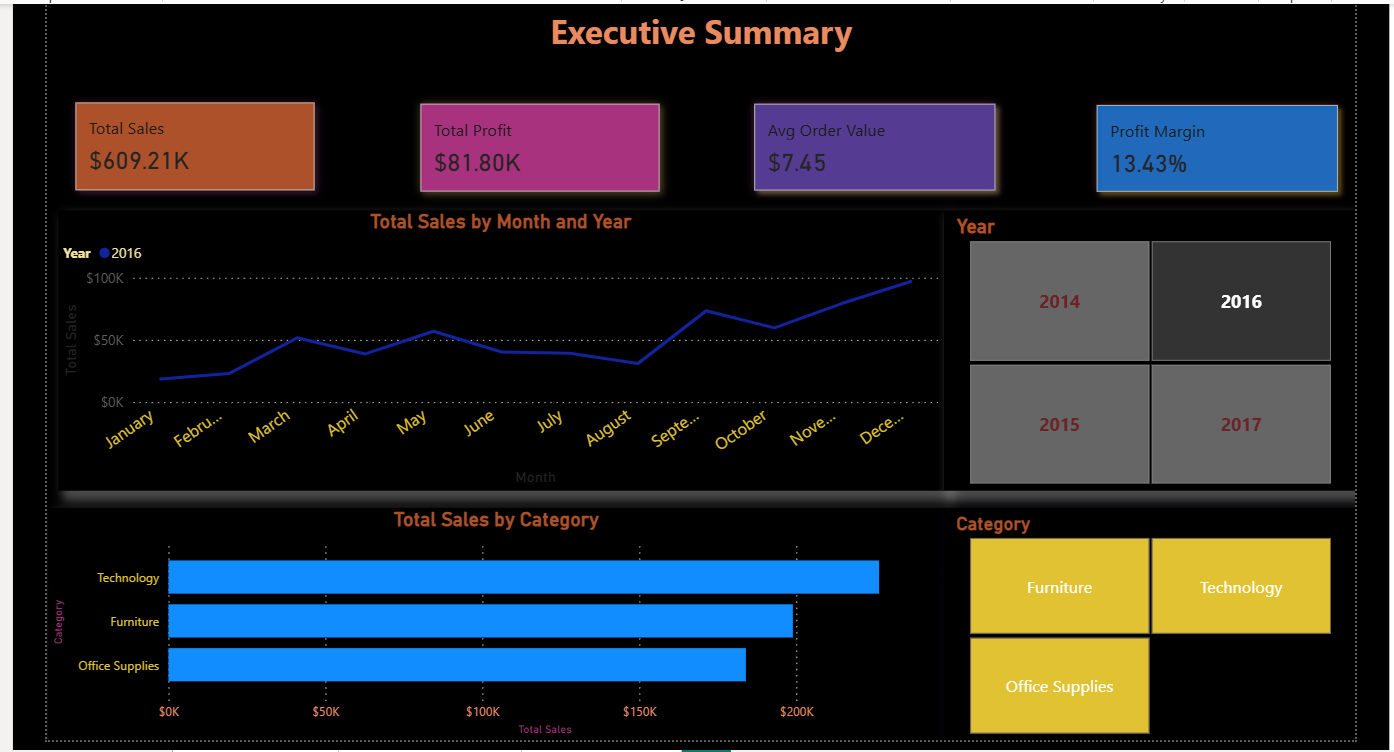

The dashboard page shown, as its layout file describes it:
{"tool":"powerbi","page":{"name":"Executive Summary","canvas":[1280,720],"ordinal":1},"visuals":[{"type":"cardVisual","fields":{"Data":["Sample - Superstore.Total Sales"]},"box":[11,79.6,269,120.8],"z":0},{"type":"cardVisual","fields":{"Data":["Sample - Superstore.Avg Order Value"]},"box":[675.1,81,270.3,119.4],"z":1000},{"type":"cardVisual","fields":{"Data":["Sample - Superstore.Profit Margin"]},"box":[1010,82.3,270.3,119.4],"z":2000},{"type":"cardVisual","fields":{"Data":["Sample - Superstore.Total Profit"]},"box":[348.5,81,269,120.8],"z":3000},{"type":"lineChart","fields":{"Category":["Sample - Superstore.Order Date.Variation.Date Hierarchy.Month"],"Y":["Sample - Superstore.Total Sales"],"Series":["Sample - Superstore.Order Date.Variation.Date Hierarchy.Year"]},"box":[11,201.7,865.9,274.4],"z":4000},{"type":"clusteredBarChart","fields":{"Category":["Sample - Superstore.Category"],"Y":["Sample - Superstore.Total Sales"]},"box":[0.8,493.2,876.8,227.8],"z":5000},{"type":"slicer","fields":{"Values":["Sample - Superstore.Order Date.Variation.Date Hierarchy.Year"]},"box":[876.8,201.7,403.4,274.4],"z":6000},{"type":"slicer","fields":{"Values":["Sample - Superstore.Category"]},"box":[876.8,492.6,403.4,227.8],"z":7000},{"type":"textbox","box":[467.9,0,343.1,79.6],"z":8000}]}

Visuals, with their boxes on the page's 1280x720 design canvas (x1, y1, x2, y2). These are canvas units, not pixel positions in the 1394x752 screenshot, which may show the page scaled, cropped or inside an application window:
cardVisual - Sample - Superstore.Total Sales: detection(11, 80, 280, 200)
cardVisual - Sample - Superstore.Avg Order Value: detection(675, 81, 945, 200)
cardVisual - Sample - Superstore.Profit Margin: detection(1010, 82, 1280, 202)
cardVisual - Sample - Superstore.Total Profit: detection(348, 81, 618, 202)
lineChart - Sample - Superstore.Order Date.Variation.Date Hierarchy.Month x Sample - Superstore.Total Sales: detection(11, 202, 877, 476)
clusteredBarChart - Sample - Superstore.Category x Sample - Superstore.Total Sales: detection(1, 493, 878, 721)
slicer - Sample - Superstore.Order Date.Variation.Date Hierarchy.Year: detection(877, 202, 1280, 476)
slicer - Sample - Superstore.Category: detection(877, 493, 1280, 720)
textbox: detection(468, 0, 811, 80)
